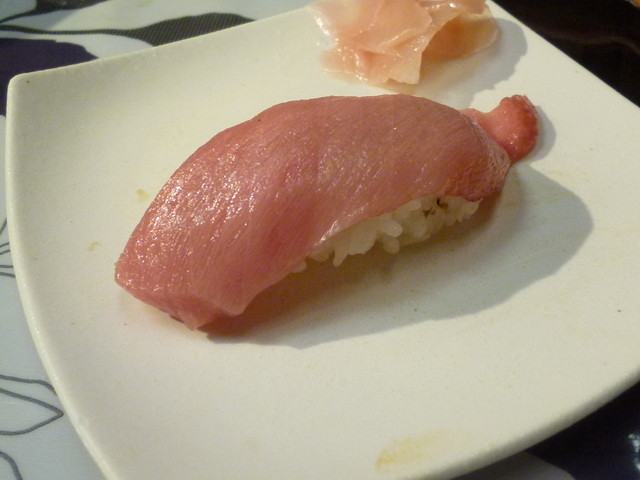medium_fatty_tuna: (112, 94, 545, 338)
